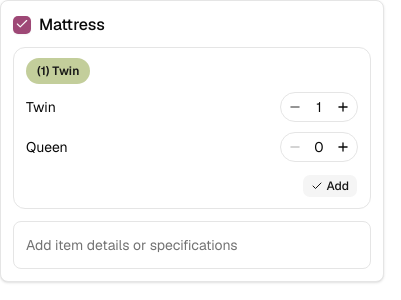
Test: FurnitureItemCard › only renders the size edit button when selected sizes are collapsed
Click the button with aria-label "Done".
click(330, 186)  # box left=302, top=174, right=358, bottom=198
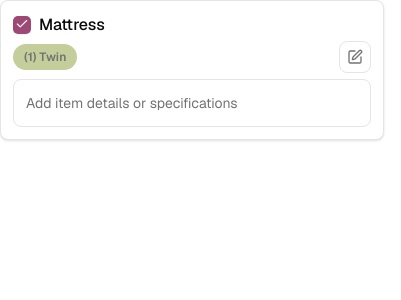
Expected: the button named "Edit sizes" is shown, left=339, top=41, right=371, bottom=73
